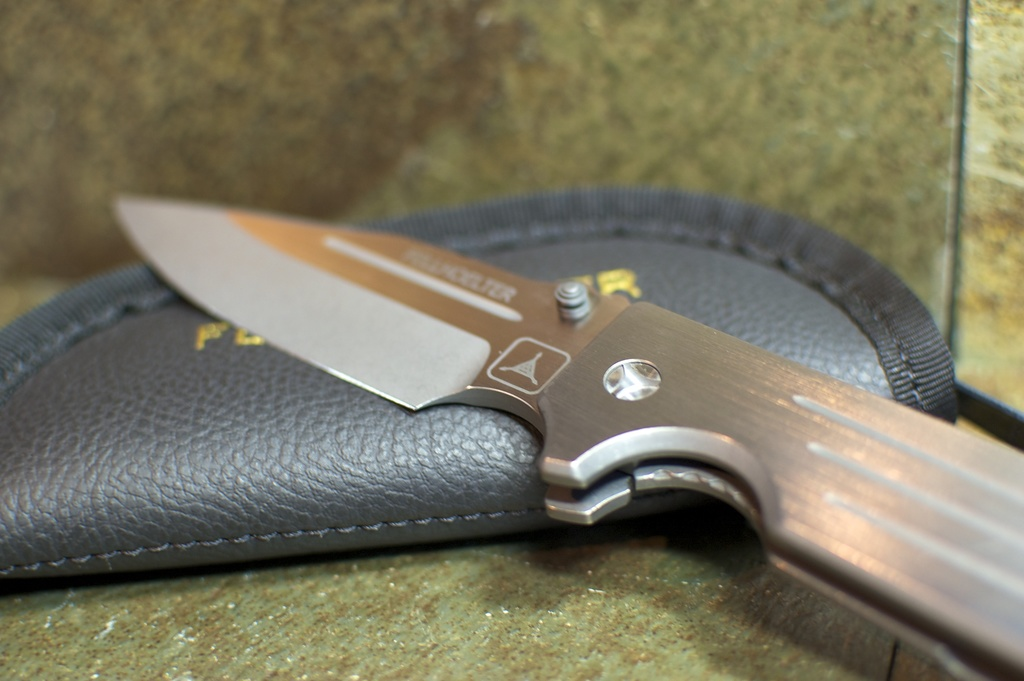knife: (110, 191, 1023, 680)
